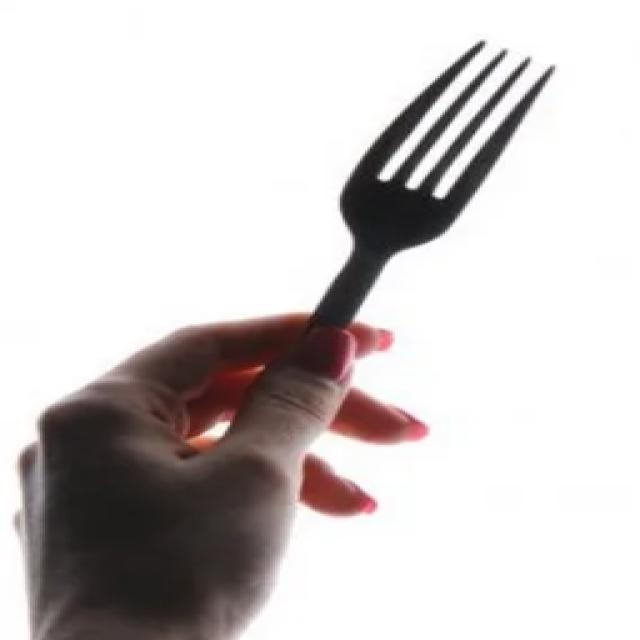fork: (255, 40, 560, 477)
